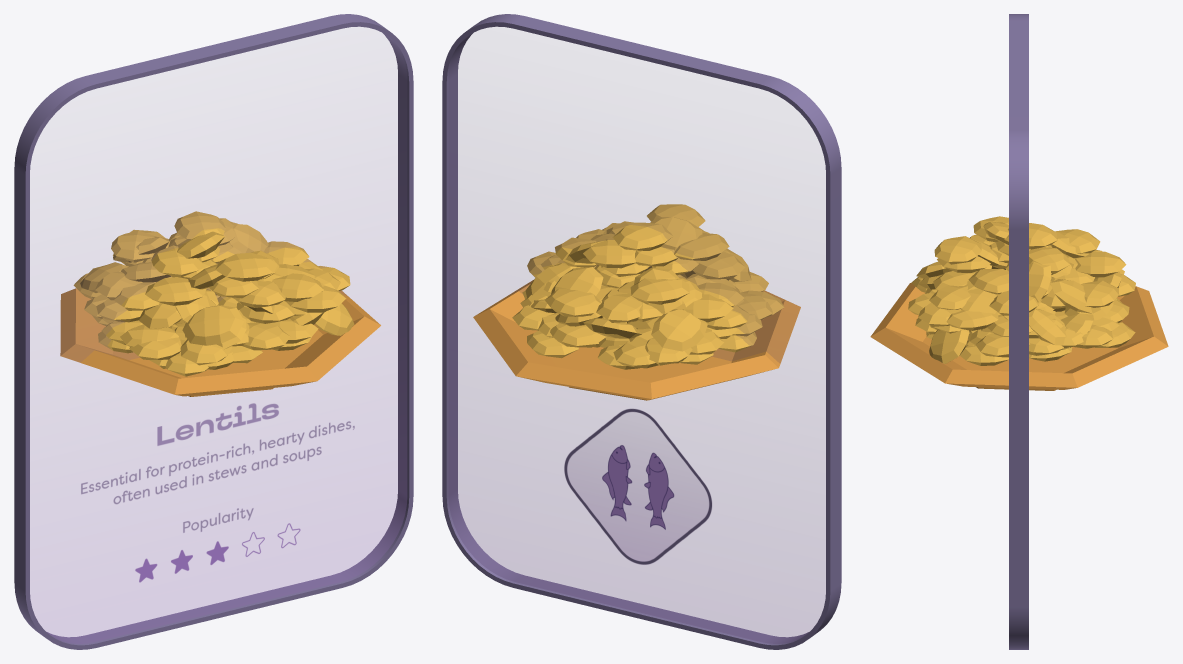
Rendered from lentils.glb.
3 renders of one model, left to right at view 1: azimuth 30°, elevation 25°; view 2: azimuth 150°, elevation 25°; view 3: azimuth 270°, elevation 25°, orthographic. The views are drawn at different scales.
Visible parts, largest first — view 1: Bhai_Card.tex.026, bowl of cereal.003, Bhai_Card.out.026; view 2: Bhai_Card.tex.026, bowl of cereal.003, Bhai_Card.out.026; view 3: bowl of cereal.003, Bhai_Card.out.026.
Part boxes in pixels (x1,y1,x2,y2): Bhai_Card.tex.026: [30, 152, 406, 643]; bowl of cereal.003: [60, 211, 380, 396]; Bhai_Card.out.026: [14, 14, 413, 649]; Bhai_Card.tex.026: [449, 152, 825, 643]; bowl of cereal.003: [473, 204, 800, 400]; Bhai_Card.out.026: [442, 14, 841, 649]; bowl of cereal.003: [870, 216, 1168, 390]; Bhai_Card.out.026: [1009, 14, 1028, 649].
Size of the model in its own units: 1.81 by 2.51 by 1.32.
5 materials, 2 textured.
